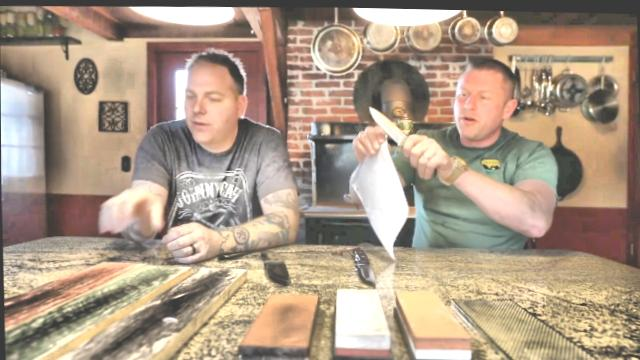knife: (360, 96, 431, 167)
